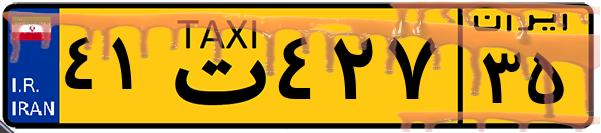1: (110, 28, 158, 98)
2: (330, 28, 385, 110)
3: (475, 38, 525, 113)
4: (270, 28, 330, 110), (57, 26, 110, 100)
5: (525, 38, 570, 115)
7: (385, 28, 445, 110)
ت: (158, 12, 270, 120)
